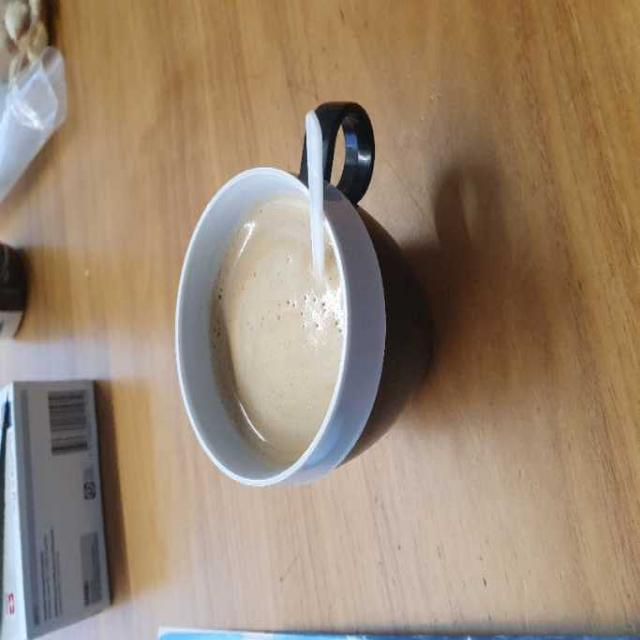coffee-with-caffeine: (213, 198, 343, 463)
